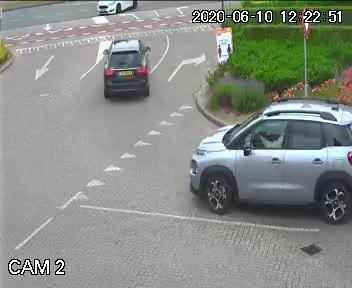car: (180, 91, 352, 240), (95, 30, 166, 106), (86, 0, 152, 17)
